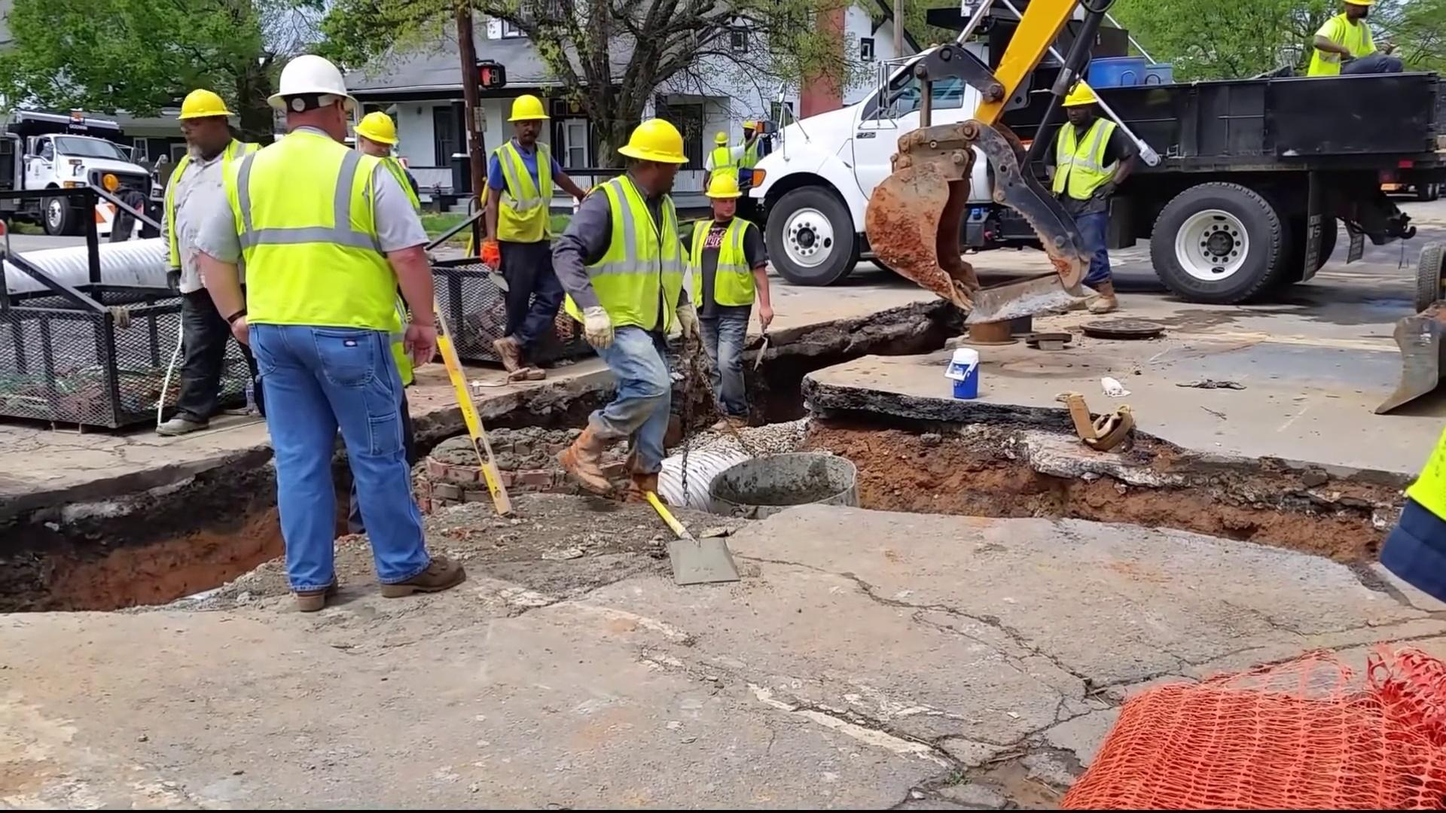apron: (578, 306, 615, 351), (672, 301, 706, 344), (475, 237, 505, 269), (1098, 192, 1121, 220)
